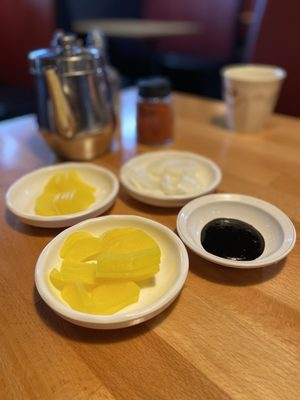pizza: (220, 62, 288, 134)
sushi: (34, 214, 189, 330), (176, 193, 297, 270), (4, 162, 120, 229), (120, 149, 223, 209)
